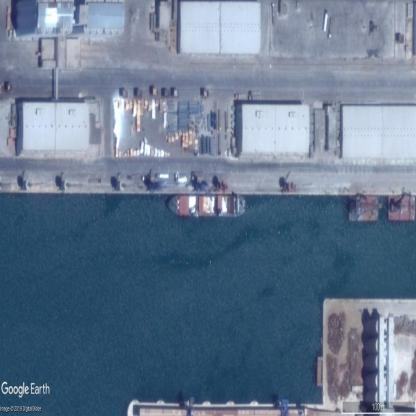ship: (167, 195, 246, 217)
